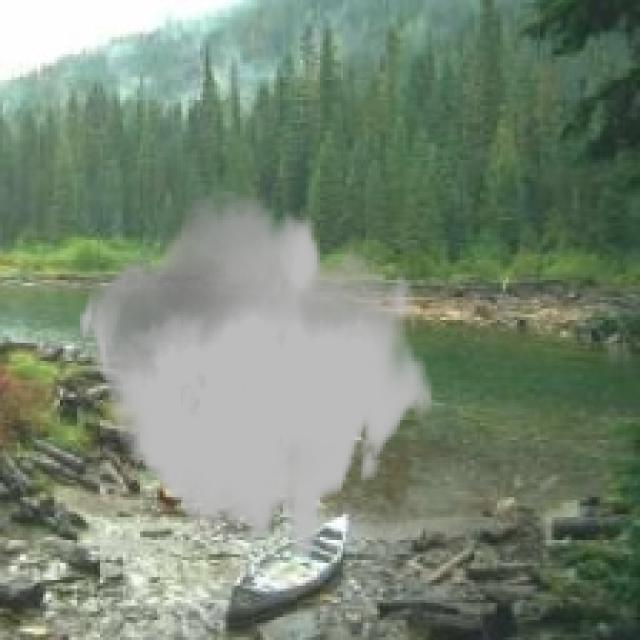Smoke: (77, 192, 434, 557)
